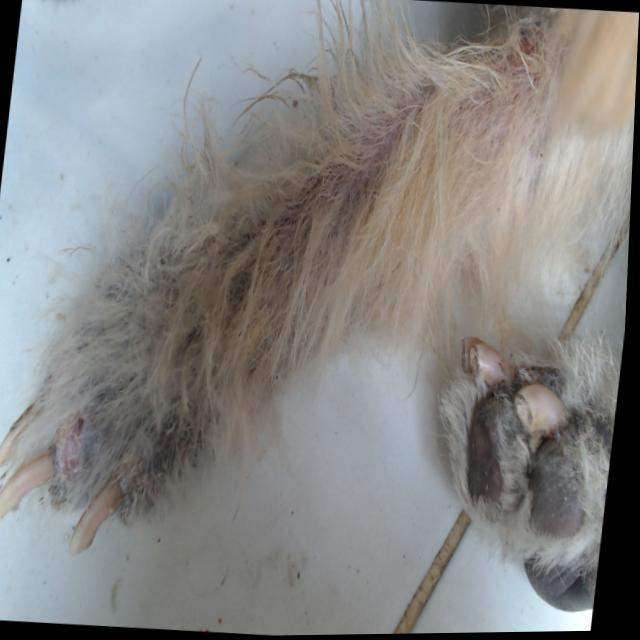demodicosis: (372, 36, 549, 160), (61, 396, 112, 474)
